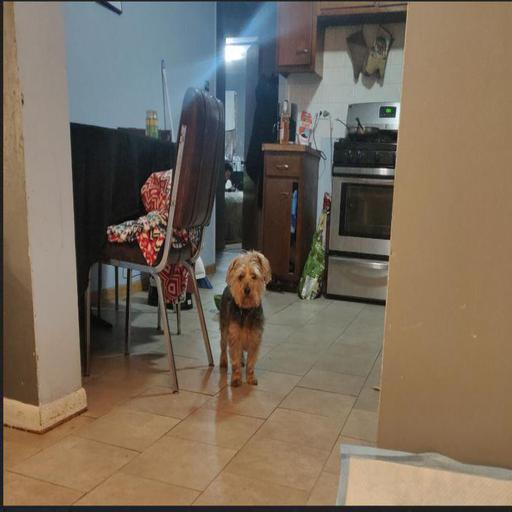dog: (194, 248, 300, 354)
